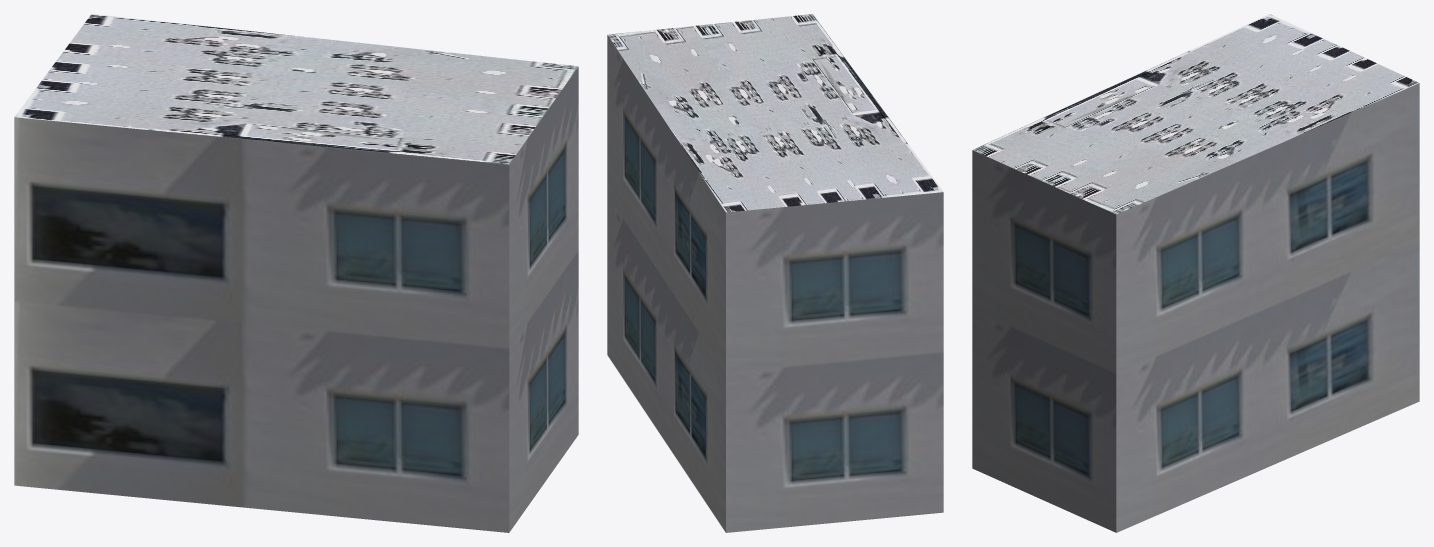
Rendered from ResTex__3545.fbx.
3 views of the same model, side by side, from view 1: azimuth 30°, elevation 25°; view 2: azimuth 150°, elevation 25°; view 3: azimuth 270°, elevation 25° (orthographic). The views are drawn at different scales.
Parts seen in each view (by area): view 1: CityEngineMaterial_10_m, CityEngineMaterial_8_m; view 2: CityEngineMaterial_10_m, CityEngineMaterial_8_m; view 3: CityEngineMaterial_10_m, CityEngineMaterial_8_m.
Part boxes in pixels (bbox=[...]): CityEngineMaterial_10_m: bbox=[14, 67, 578, 532]; CityEngineMaterial_8_m: bbox=[14, 14, 578, 164]; CityEngineMaterial_10_m: bbox=[607, 35, 943, 532]; CityEngineMaterial_8_m: bbox=[607, 14, 943, 212]; CityEngineMaterial_10_m: bbox=[972, 83, 1419, 532]; CityEngineMaterial_8_m: bbox=[972, 14, 1418, 214].
Bounding box in the file's own units: 8.1 × 6 × 7.64.
2 materials, 2 textured.
